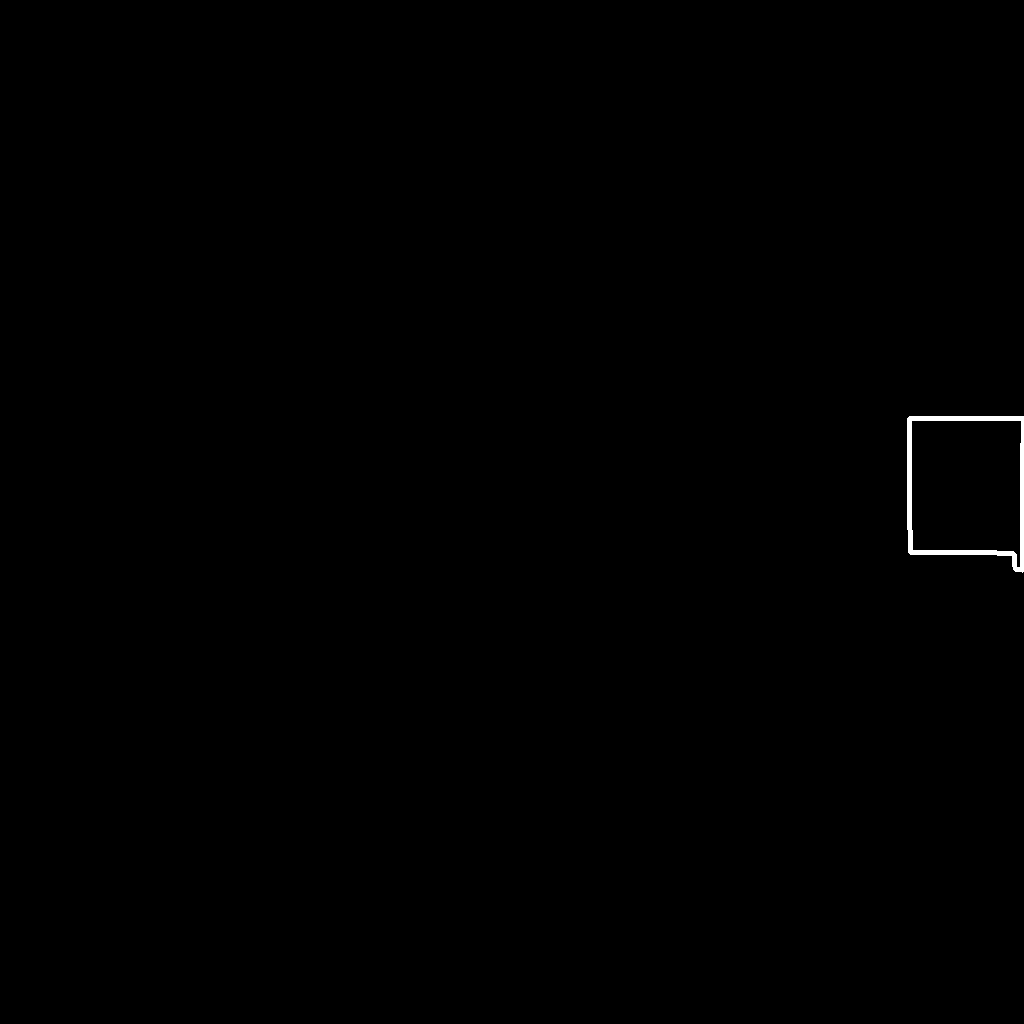building: (909, 418, 1024, 571)
